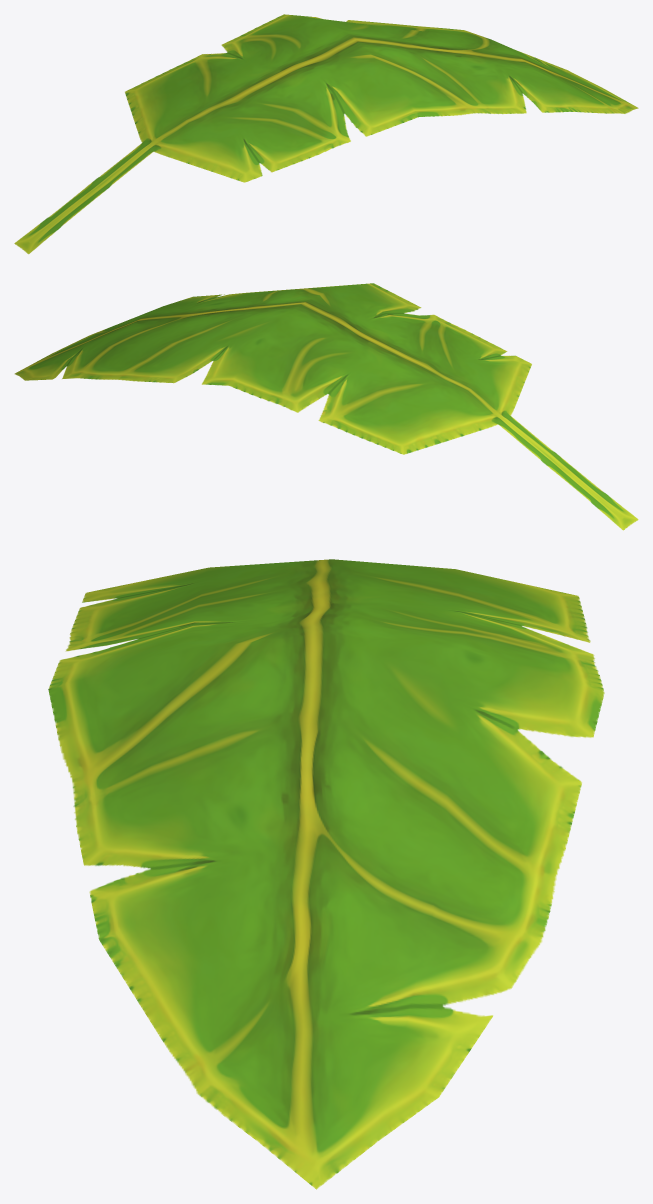
Rendered from leaf_02.gltf.
3 views of the same model, one above another, from view 1: azimuth 30°, elevation 25°; view 2: azimuth 150°, elevation 25°; view 3: azimuth 270°, elevation 25° (orthographic). The views are drawn at different scales.
Visible parts, largest first — view 1: Leaf02; view 2: Leaf02; view 3: Leaf02.
Part boxes in pixels (box(x1,y1,x2,y2)): Leaf02: box(14, 14, 638, 254); Leaf02: box(14, 283, 638, 530); Leaf02: box(48, 559, 604, 1189).
Bounding box in the file's own units: 4 × 0.869 × 1.57.
1 material, 1 textured.
